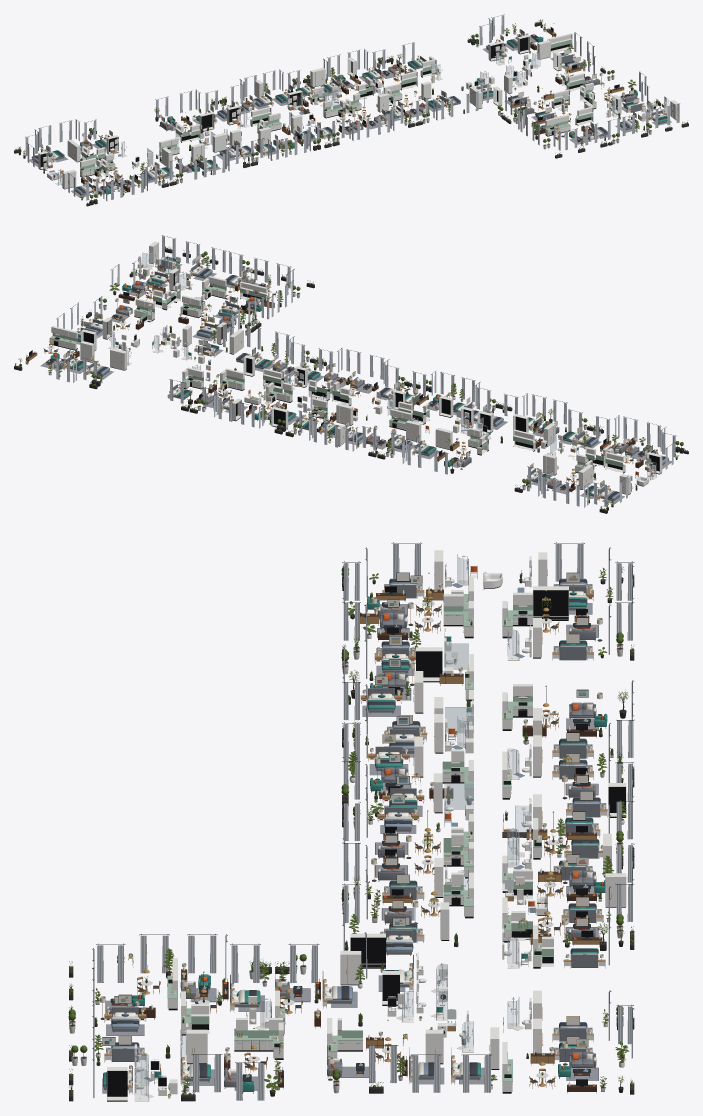
3 views of the same model, one above another, from view 1: azimuth 30°, elevation 25°; view 2: azimuth 150°, elevation 25°; view 3: azimuth 270°, elevation 25° (orthographic). The views are drawn at different scales.
Parts seen in each view (by area): view 1: in_L09_u156_furn_kitchen_run1__int_white_gloss, in_L09_u153_furn_kitchen_run1__int_white_gloss; view 2: in_L09_u153_furn_kitchen_run1__int_white_gloss; view 3: in_L09_u155_furn_kitchen_run1__int_white_gloss, in_L09_u167_furn_wardrobe1__int_white_gloss, in_L09_u159_furn_wardrobe2__int_white_gloss, in_L09_u164_furn_wardrobe1__int_white_gloss.
Boxes of the visible parts, bbox=[...] form: in_L09_u156_furn_kitchen_run1__int_white_gloss: bbox=[545, 114, 570, 136]; in_L09_u153_furn_kitchen_run1__int_white_gloss: bbox=[548, 33, 572, 53]; in_L09_u153_furn_kitchen_run1__int_white_gloss: bbox=[49, 326, 77, 350]; in_L09_u155_furn_kitchen_run1__int_white_gloss: bbox=[234, 1018, 283, 1051]; in_L09_u167_furn_wardrobe1__int_white_gloss: bbox=[533, 586, 568, 620]; in_L09_u159_furn_wardrobe2__int_white_gloss: bbox=[350, 933, 385, 968]; in_L09_u164_furn_wardrobe1__int_white_gloss: bbox=[416, 647, 442, 682].
Bounding box in the file's own units: 82.62 × 3 × 37.94.
